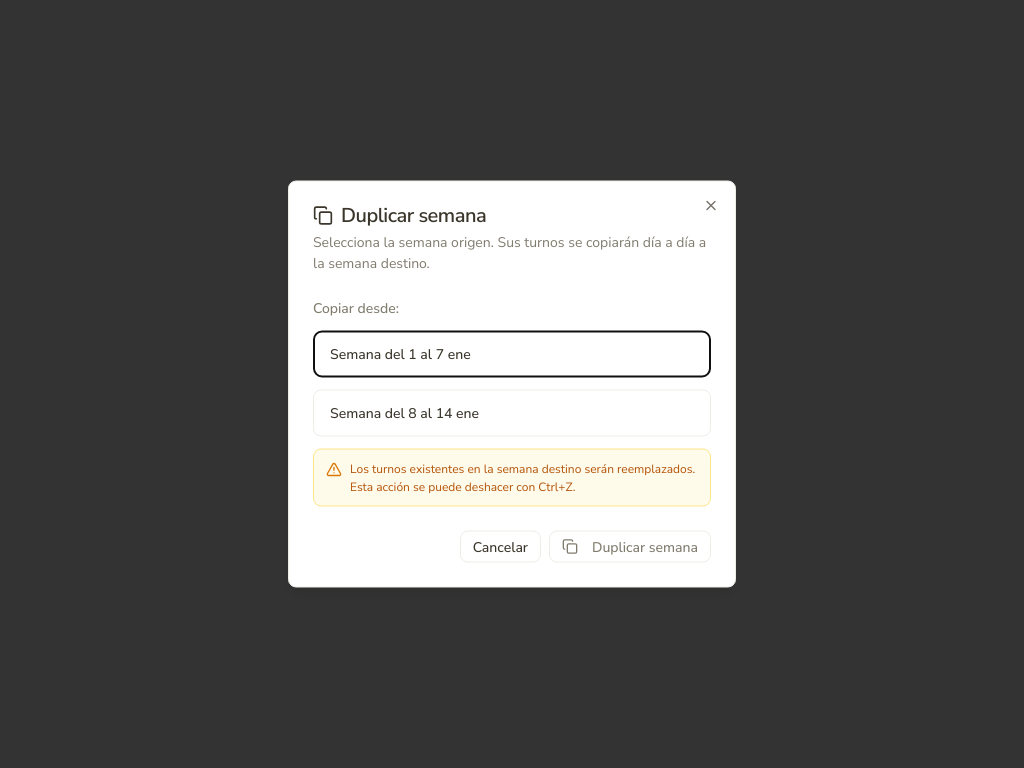
DuplicateWeekDialog › clicking week 1 card selects it as source (shows "Origen" label)
Note: Click the week1 card button
Step 1. Click the button "Semana del 1 al 7 ene" → x=400, y=354, box [313,330,711,378]
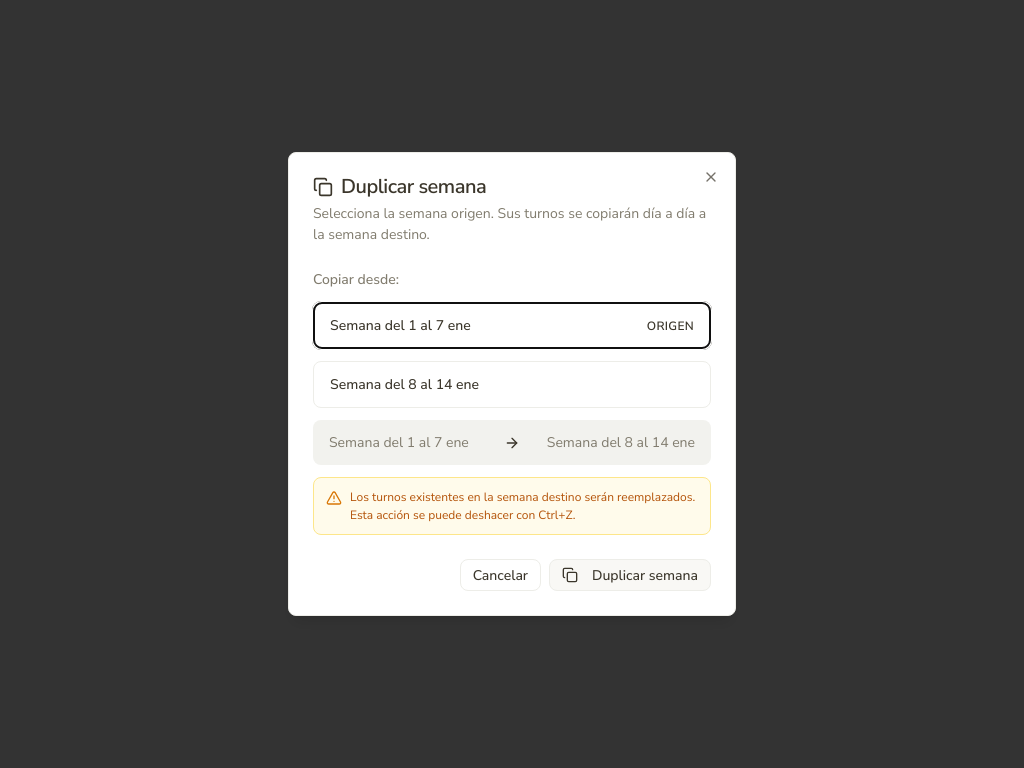
Expected: the text "Origen" is shown, [647,316,694,334]
